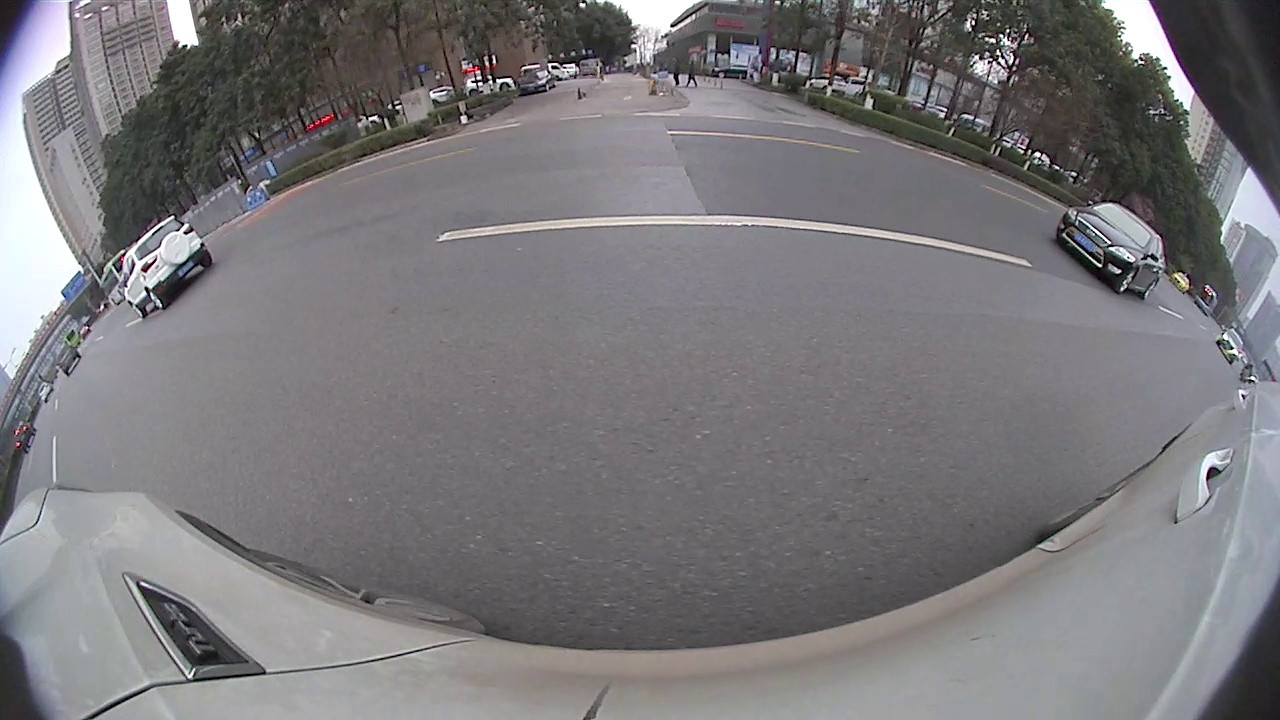bus: (814, 0, 1279, 446), (750, 138, 812, 168)
car: (1, 241, 273, 472), (409, 135, 543, 232), (544, 131, 665, 221), (709, 148, 812, 206), (671, 157, 713, 188)
front: (156, 279, 252, 383), (840, 189, 892, 261)
rear: (496, 186, 514, 221), (734, 176, 747, 204)
